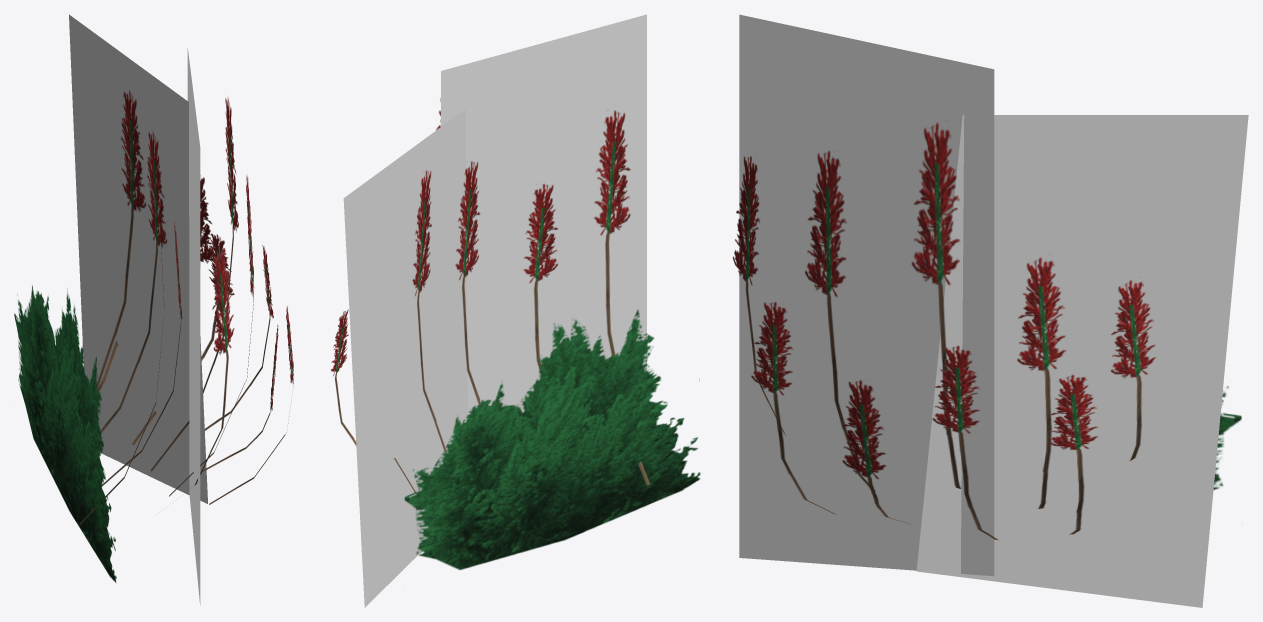
Rendered from stklib_redFlowerBush_a_main.glb.
3 renders of one model, left to right at view 1: azimuth 30°, elevation 25°; view 2: azimuth 150°, elevation 25°; view 3: azimuth 270°, elevation 25°, orthographic. The views are drawn at different scales.
Parts seen in each view (by area): view 1: stktex_branches_diff_a.png__, stktex_greenBrush_a.png__, stktex_redFlower_a.png__; view 2: stktex_branches_diff_a.png__, stktex_greenBrush_a.png__, stktex_redFlower_a.png__; view 3: stktex_branches_diff_a.png__, stktex_redFlower_a.png__.
Boxes of the visible parts, box(x1,y1,x2,y2) form: stktex_branches_diff_a.png__: box(69, 14, 207, 605); stktex_greenBrush_a.png__: box(14, 285, 116, 582); stktex_redFlower_a.png__: box(79, 90, 293, 525); stktex_branches_diff_a.png__: box(343, 14, 646, 607); stktex_greenBrush_a.png__: box(404, 309, 700, 569); stktex_redFlower_a.png__: box(330, 98, 650, 493); stktex_branches_diff_a.png__: box(739, 14, 1248, 607); stktex_redFlower_a.png__: box(733, 121, 1156, 540).
Bounding box in the file's own units: 2.36 × 4.21 × 3.63.
3 materials, 2 textured.
